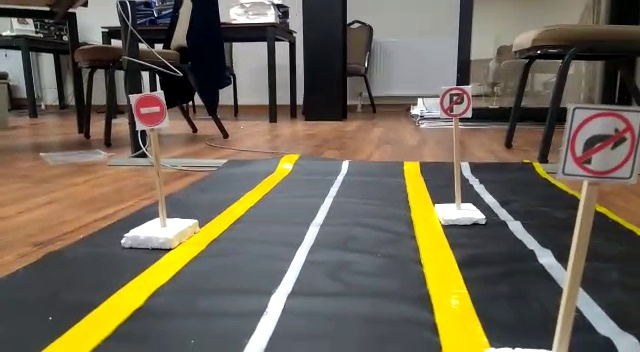girisi_olmayan_yol: (134, 93, 166, 129)
park_yapilmaz: (438, 87, 471, 118)
saga_donulmez: (570, 107, 636, 182)
